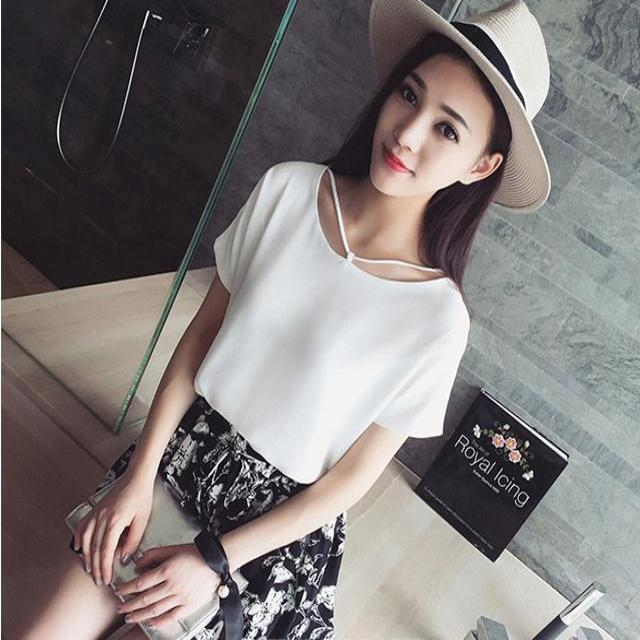short sleeve top: (195, 165, 470, 482)
skirt: (70, 398, 338, 639)
